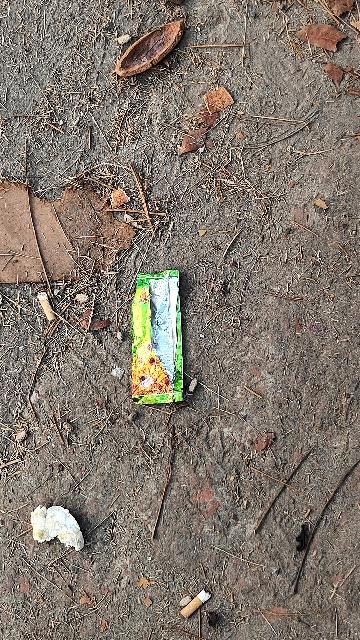packet: (134, 260, 183, 411)
